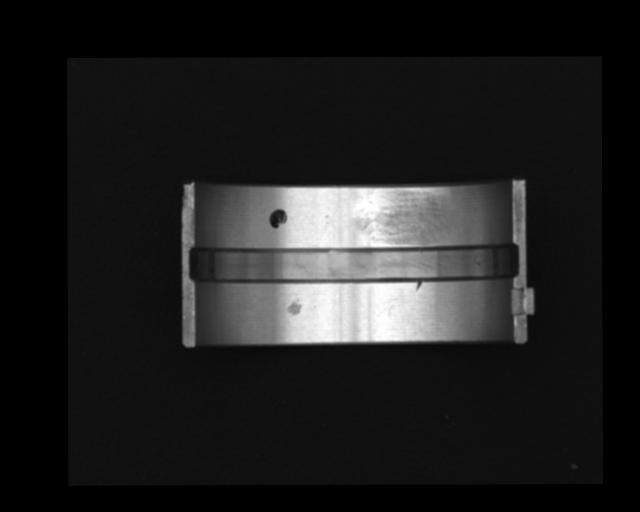blot: (268, 207, 286, 230)
bruise: (284, 296, 302, 317), (415, 280, 421, 292)
gap: (187, 244, 522, 282)
scratch: (352, 187, 448, 245)
